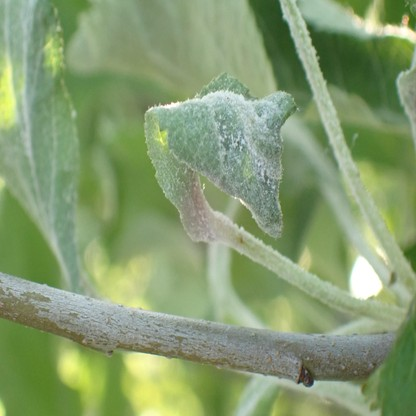powdery_mildew: (149, 78, 300, 244), (0, 0, 78, 256), (396, 68, 416, 140)
